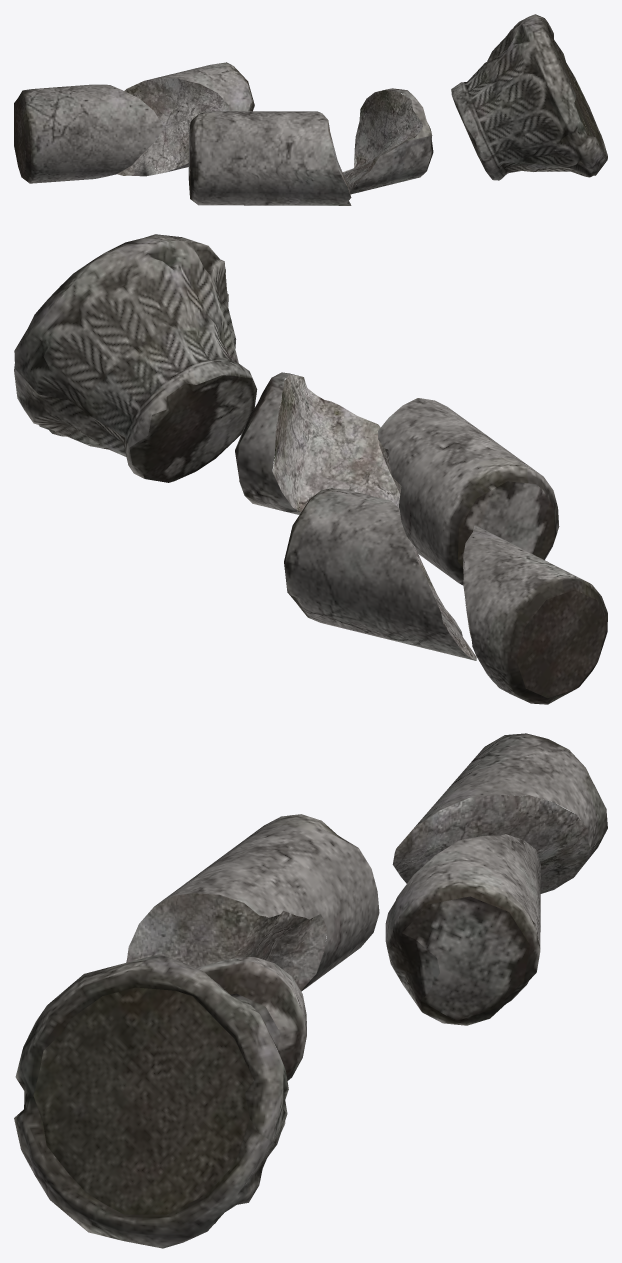
File: eso_ss14_ruins1-transformed.glb
The picture shows the model from 3 angles, top to bottom: view 1: azimuth 30°, elevation 25°; view 2: azimuth 150°, elevation 25°; view 3: azimuth 270°, elevation 25°; orthographic projection. The views are drawn at different scales.
Parts seen in each view (by area): view 1: default; view 2: default; view 3: default.
Part boxes in pixels (left/top/right/bottom): default: left=14, top=14, right=607, bottom=205; default: left=14, top=234, right=607, bottom=704; default: left=14, top=733, right=607, bottom=1248.
Size of the model in its own units: 8.95 by 2.66 by 5.76.
Materials: 2 (2 with a texture image).
